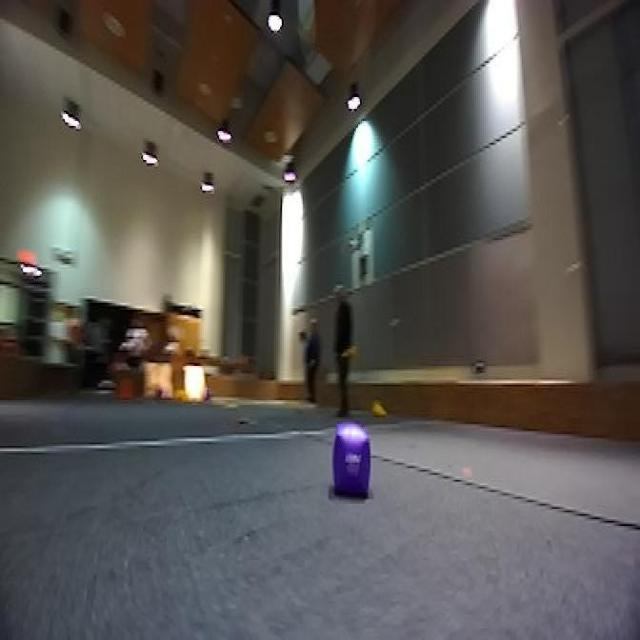frc_cone: (370, 395, 388, 420), (168, 386, 190, 404), (341, 342, 358, 361)
frc_cube: (330, 426, 372, 498), (151, 384, 166, 402), (204, 386, 216, 404)
